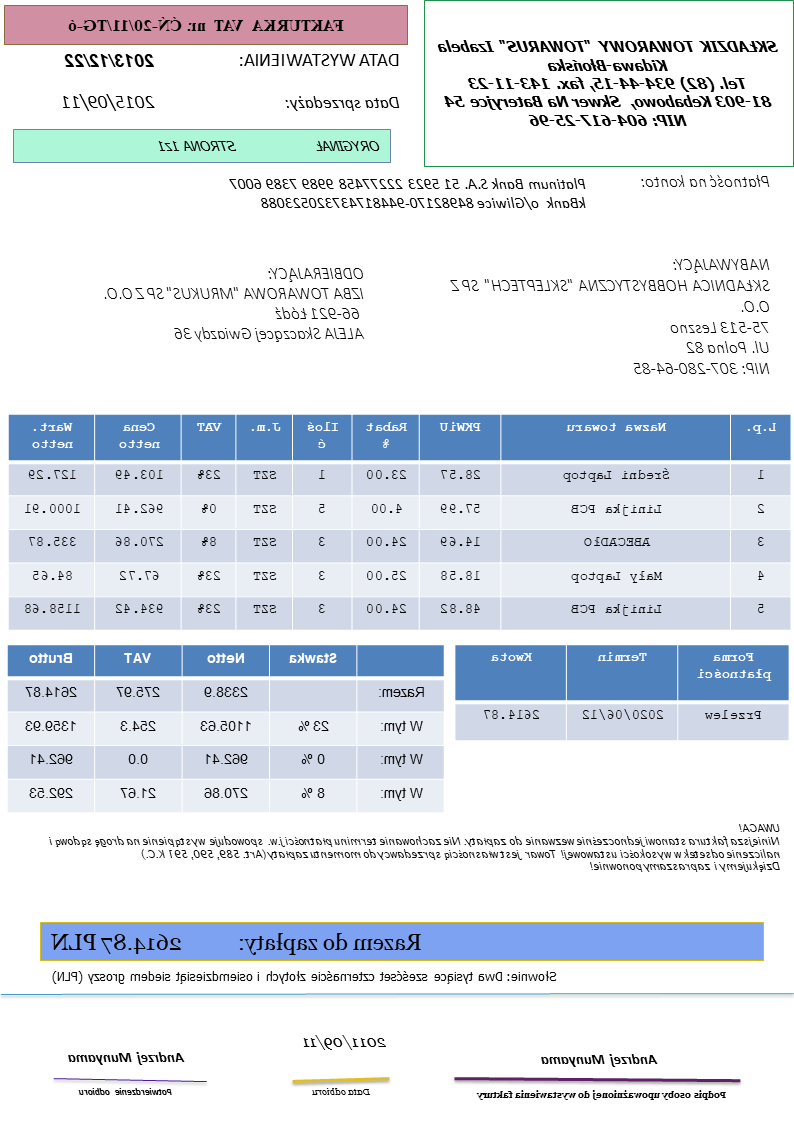Table: (7, 413, 793, 632), (5, 641, 447, 817), (453, 643, 791, 742)
TextBox: (446, 252, 774, 379), (43, 819, 783, 874), (432, 34, 781, 132), (102, 262, 367, 346), (227, 174, 590, 214), (50, 965, 560, 990), (49, 926, 424, 958), (67, 13, 349, 36), (156, 133, 383, 156), (240, 46, 404, 72), (475, 1087, 730, 1102), (283, 90, 403, 114), (640, 170, 773, 191), (60, 89, 158, 114), (535, 1050, 663, 1069), (66, 1049, 187, 1068), (62, 49, 158, 72), (301, 1031, 391, 1052), (78, 1084, 176, 1099), (309, 1083, 374, 1101)
